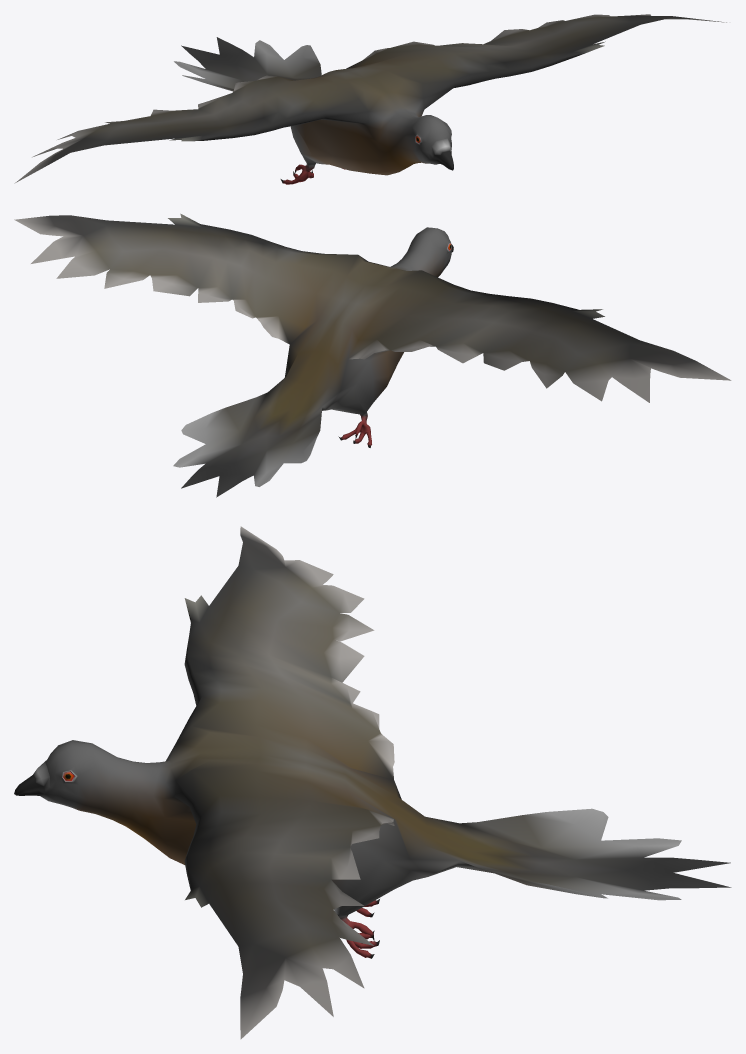
Rendered from new_pigeon.glb.
3 renders of one model, top to bottom at view 1: azimuth 30°, elevation 25°; view 2: azimuth 150°, elevation 25°; view 3: azimuth 270°, elevation 25°, orthographic. The views are drawn at different scales.
Visible parts, largest first — view 1: Plane.004; view 2: Plane.004; view 3: Plane.004.
Boxes of the visible parts, box(x1,y1,x2,y2) form: Plane.004: box(14, 14, 726, 184); Plane.004: box(14, 213, 731, 497); Plane.004: box(14, 526, 731, 1039).
Size of the model in its own units: 6.05 by 1.06 by 3.72.
